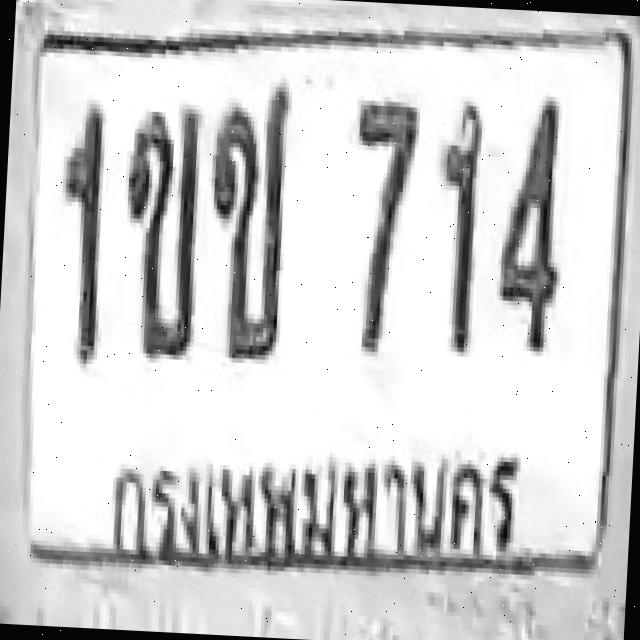1: (428, 97, 487, 350), (53, 106, 110, 367)
11KhorKhai: (115, 102, 204, 360)
19ChorChang: (201, 80, 294, 360)
4: (494, 93, 570, 354)
7: (342, 95, 421, 358)
Bangkok: (89, 422, 534, 596)
